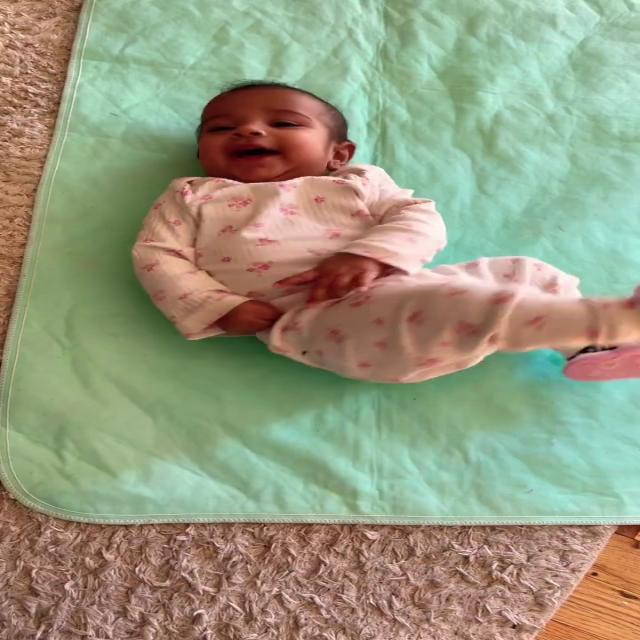baby: (114, 76, 640, 390)
